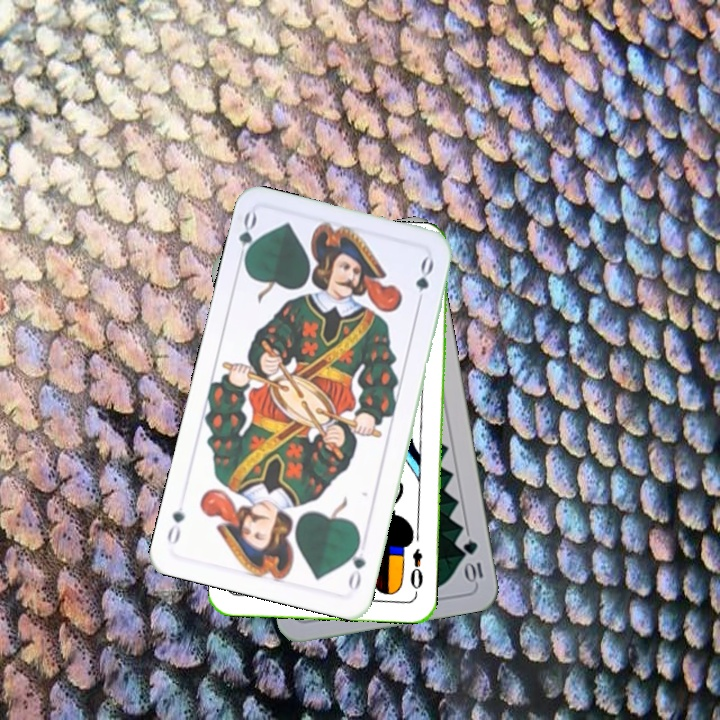EO: (406, 544, 426, 597)
G10: (459, 536, 486, 586)
GO: (233, 208, 262, 269), (344, 535, 369, 593)
